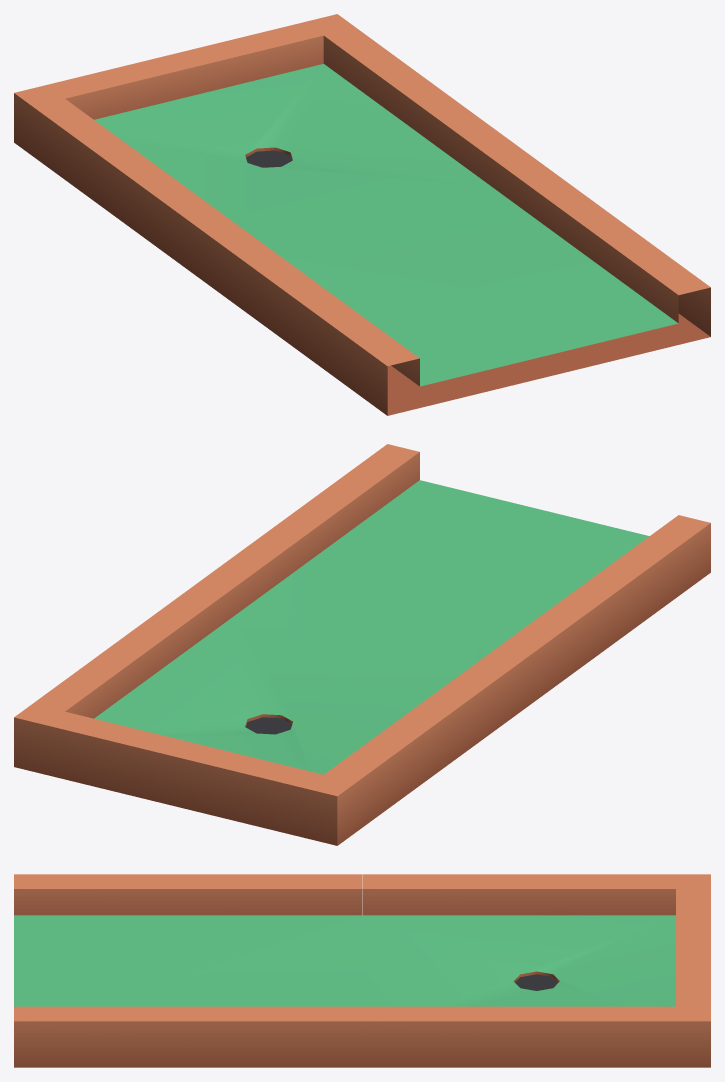
The model's file is course4-upper.glb.
3 renders of one model, top to bottom at view 1: azimuth 30°, elevation 25°; view 2: azimuth 150°, elevation 25°; view 3: azimuth 270°, elevation 25°, orthographic. The views are drawn at different scales.
Parts seen in each view (by area): view 1: floor-upper-col, walls-upper-col; view 2: walls-upper-col, floor-upper-col; view 3: walls-upper-col, floor-upper-col.
Part boxes in pixels (left/top/right/bottom): floor-upper-col: left=94, top=64, right=678, bottom=386; walls-upper-col: left=14, top=14, right=710, bottom=415; walls-upper-col: left=14, top=444, right=710, bottom=845; floor-upper-col: left=94, top=480, right=649, bottom=774; walls-upper-col: left=14, top=874, right=710, bottom=1067; floor-upper-col: left=14, top=915, right=675, bottom=1006.
Bounding box in the file's own units: 0.9999 × 0.1467 × 2.
Materials: 2 (2 with a texture image).
